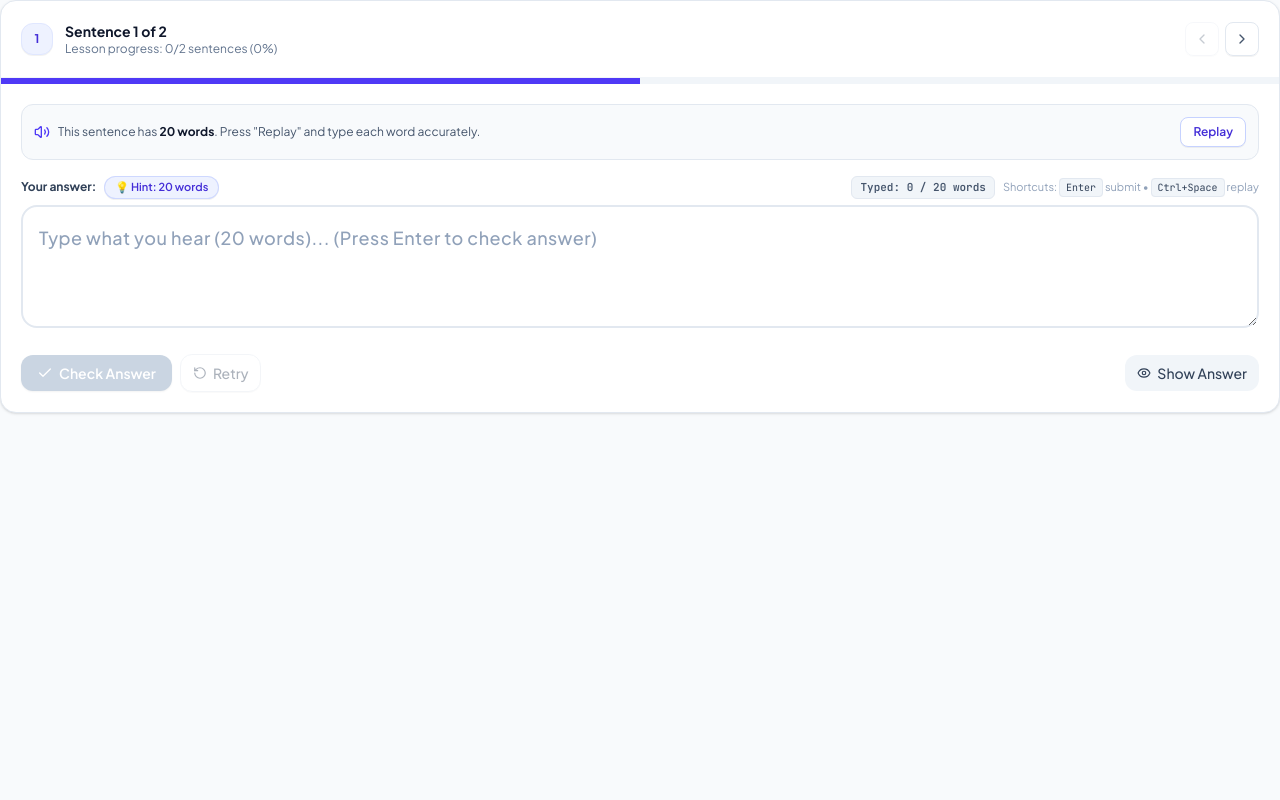
it: DictationStudio Component › handles partial answer submission and shows missing words
The image size is (1280, 800).
Replace the text in the text box with placeholder "Type what you hear" with "I am honored to be with you today" at coordinates (640, 266), box [21,204,1259,328]
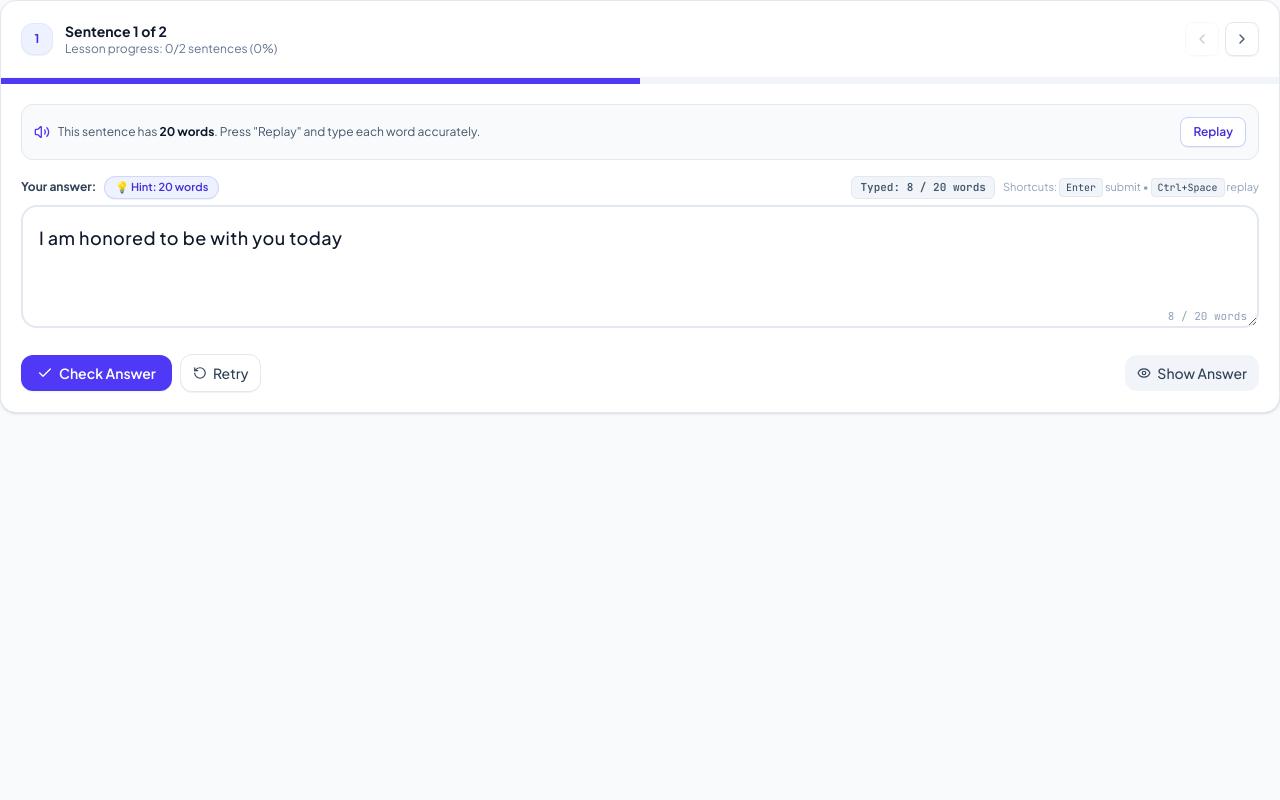
Click the button "Check Answer" at coordinates (96, 373), box [21,355,172,391]
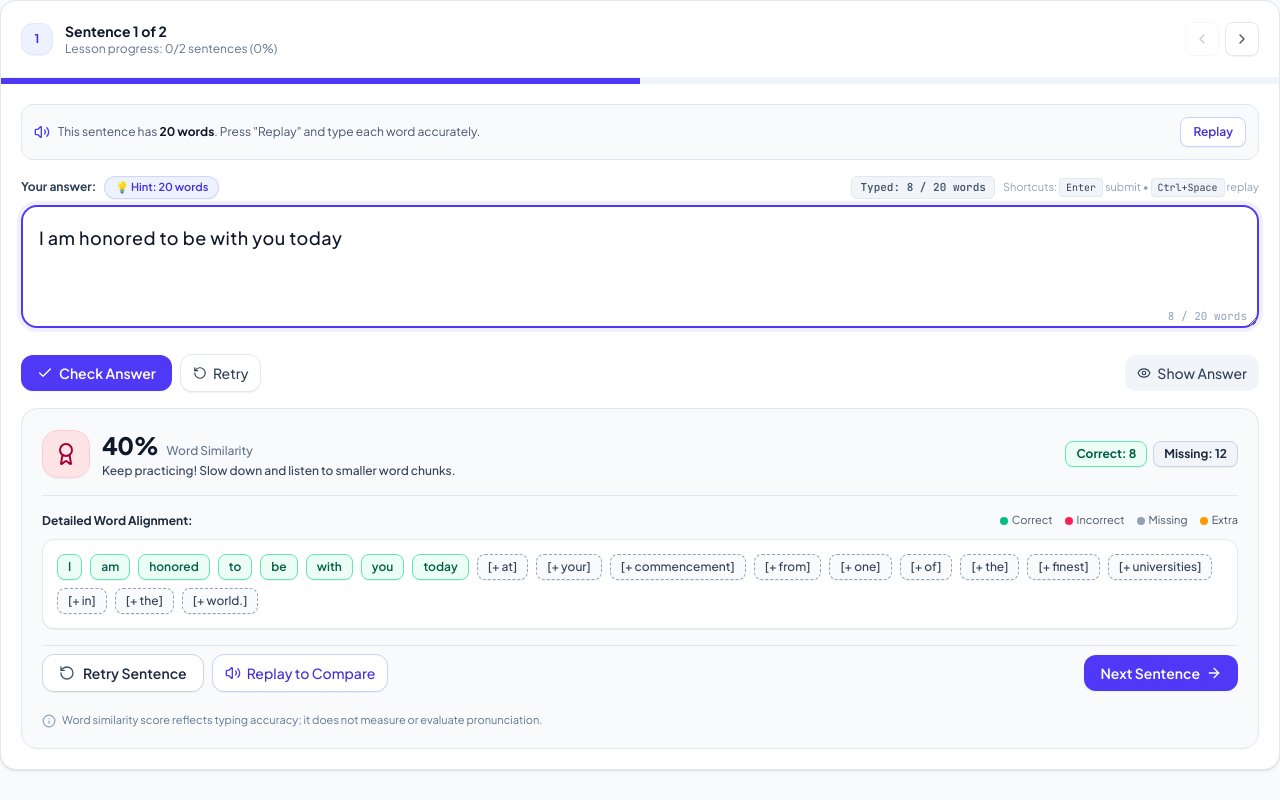
Expected: the text "Word Similarity" is shown, [167,443,253,459]
Expected: the text "Missing: 12" is shown, [1153,441,1238,467]
